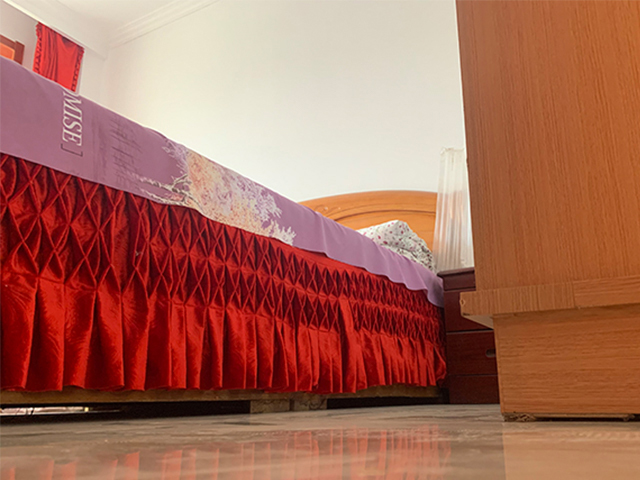bed: (1, 57, 459, 414)
cabinet: (438, 267, 500, 406)
